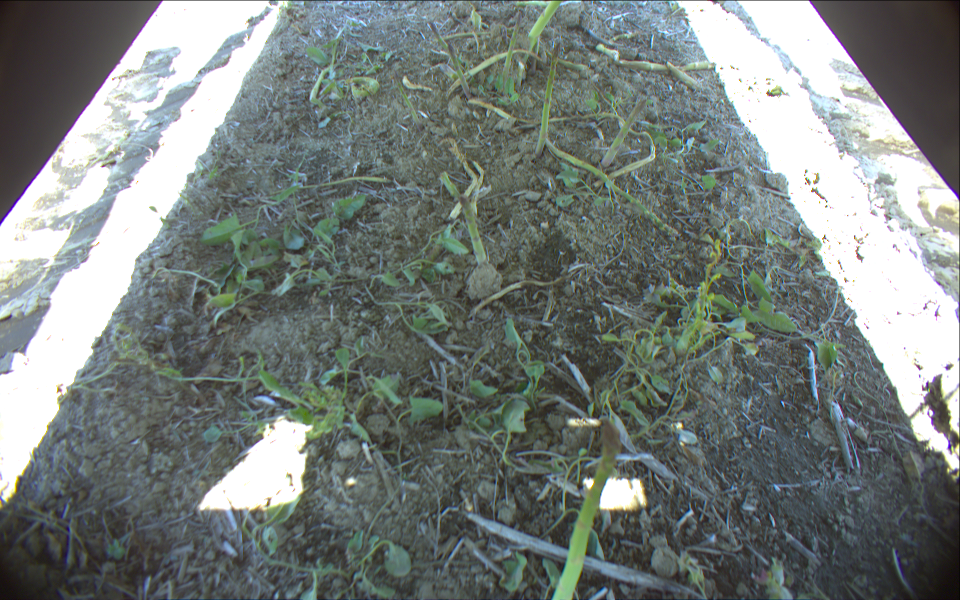aspa: (550, 417, 622, 600), (597, 96, 649, 173), (532, 41, 563, 159), (452, 190, 491, 273), (497, 8, 521, 89), (442, 42, 476, 98), (523, 1, 562, 45)
